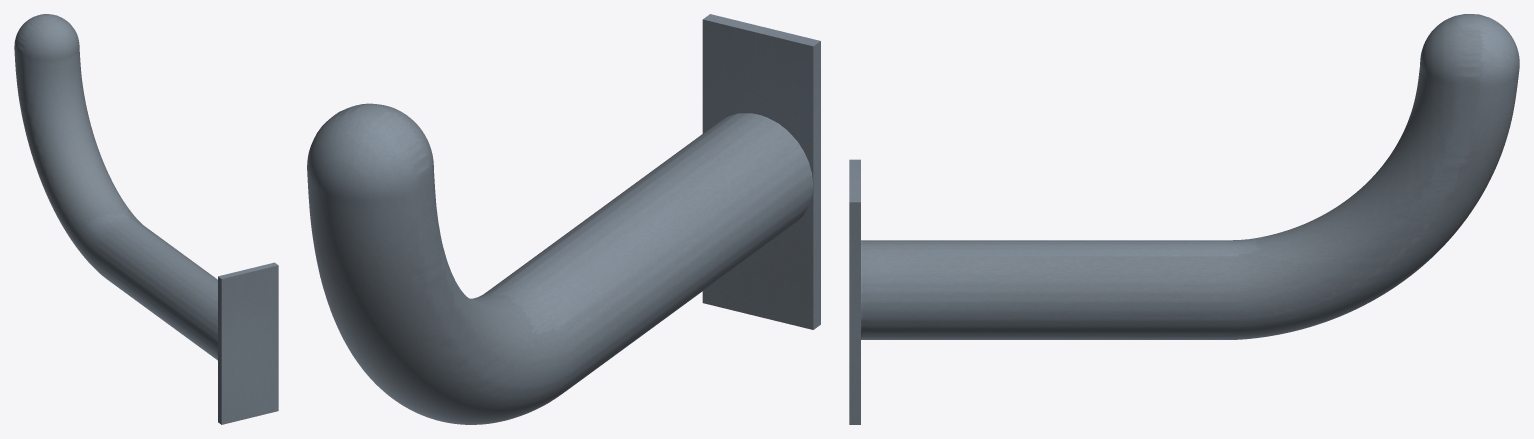
Rendered from hook.glb.
3 views of the same model, side by side, from view 1: azimuth 30°, elevation 25°; view 2: azimuth 150°, elevation 25°; view 3: azimuth 270°, elevation 25° (orthographic). The views are drawn at different scales.
Parts seen in each view (by area): view 1: Cylinder.001; view 2: Cylinder.001; view 3: Cylinder.001.
Boxes of the visible parts, <box> form: Cylinder.001: <box>14,14,278,424</box>; Cylinder.001: <box>307,14,820,424</box>; Cylinder.001: <box>849,14,1519,424</box>.
Size of the model in its own units: 2 by 8.47 by 13.36.
Materials: 1 (1 with a texture image).
